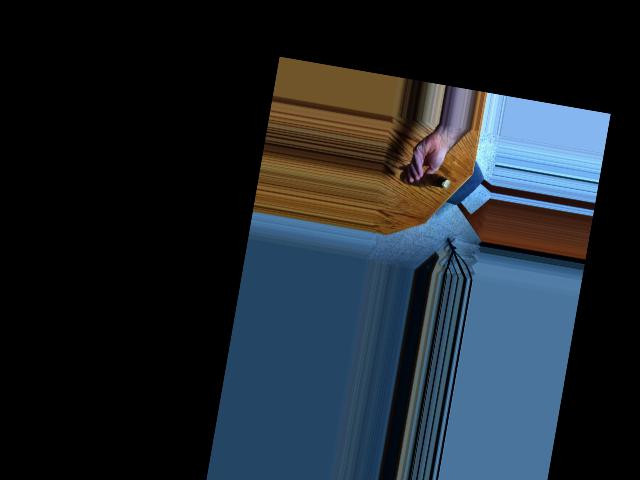sweet_potato: (402, 170, 445, 195)
